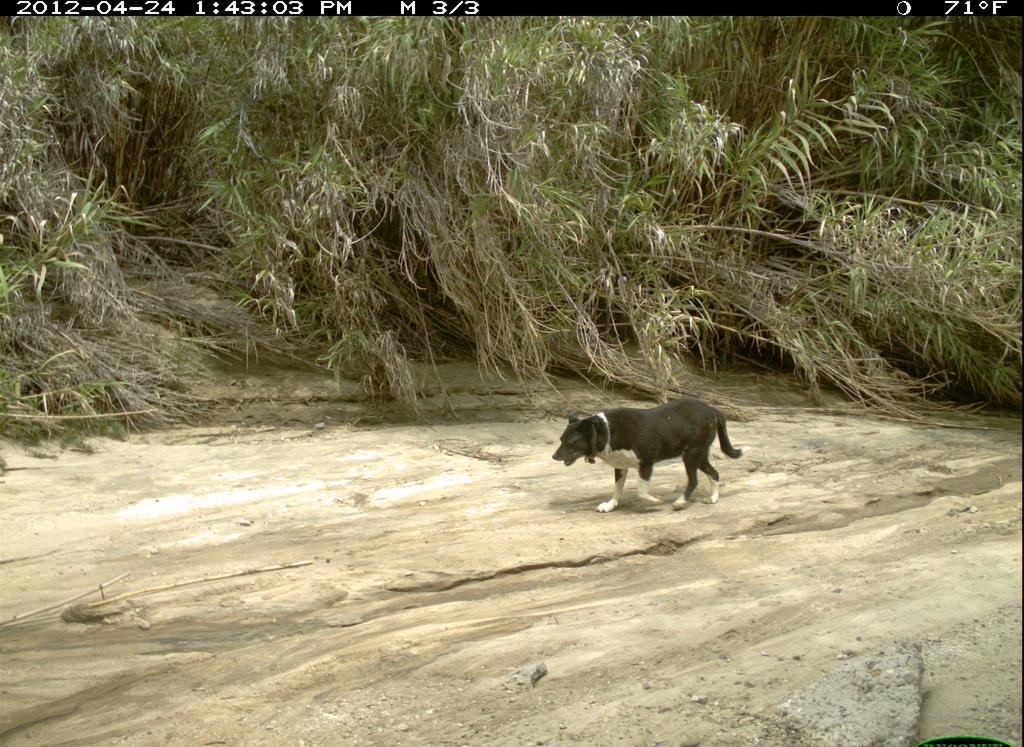dog: (550, 397, 766, 534)
